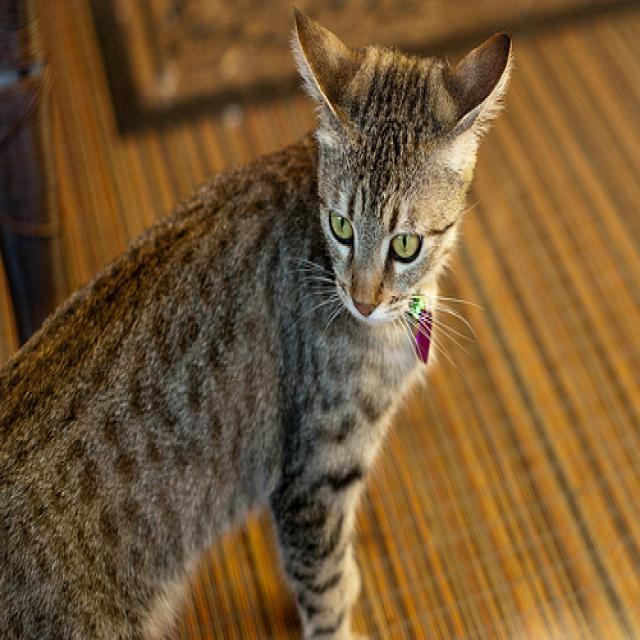Egyptian_Mau: (284, 6, 518, 332)
